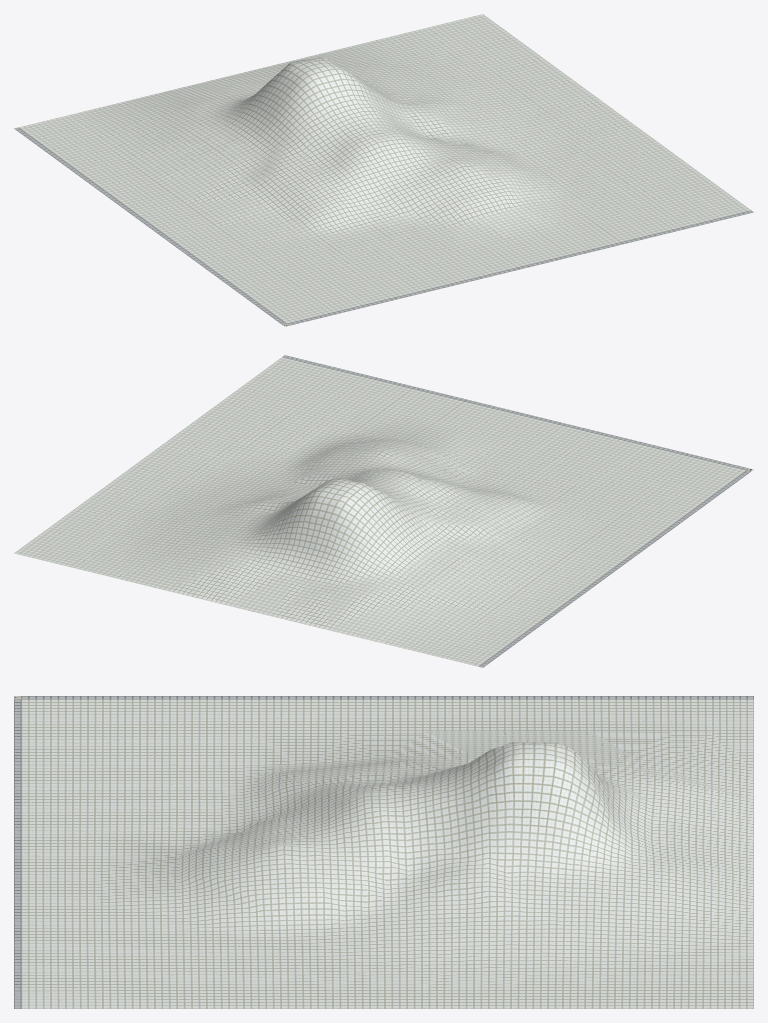
File: Offroad Hills.fbx
The picture shows the model from 3 angles, top to bottom: view 1: azimuth 30°, elevation 25°; view 2: azimuth 150°, elevation 25°; view 3: azimuth 270°, elevation 25°; orthographic projection. The views are drawn at different scales.
Parts seen in each view (by area): view 1: Offroad Hills; view 2: Offroad Hills; view 3: Offroad Hills.
Boxes of the visible parts, bbox=[...] form: Offroad Hills: bbox=[14, 14, 753, 326]; Offroad Hills: bbox=[14, 355, 753, 667]; Offroad Hills: bbox=[14, 696, 753, 1008].
Bounding box in the file's own units: 10000 × 1418 × 10000.
